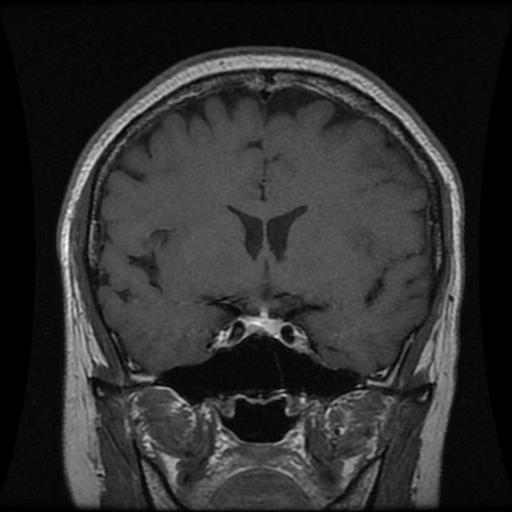Pituirity_tumour: (242, 315, 280, 333)
